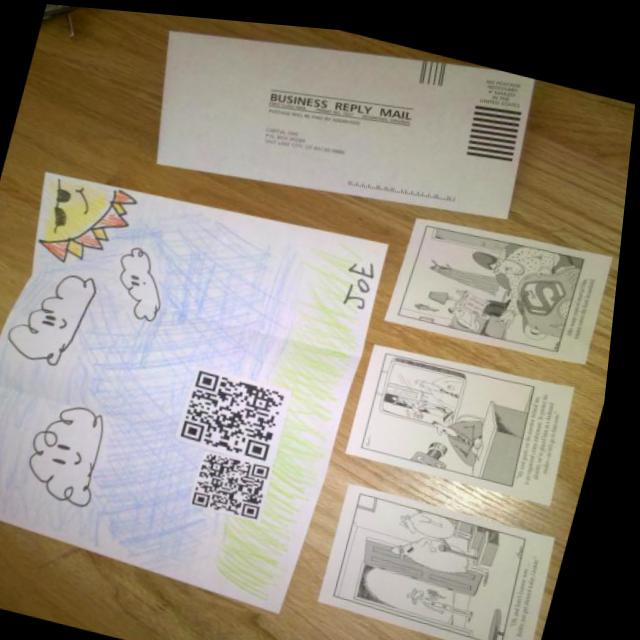qrcode: (189, 365, 295, 457), (202, 446, 283, 516)
